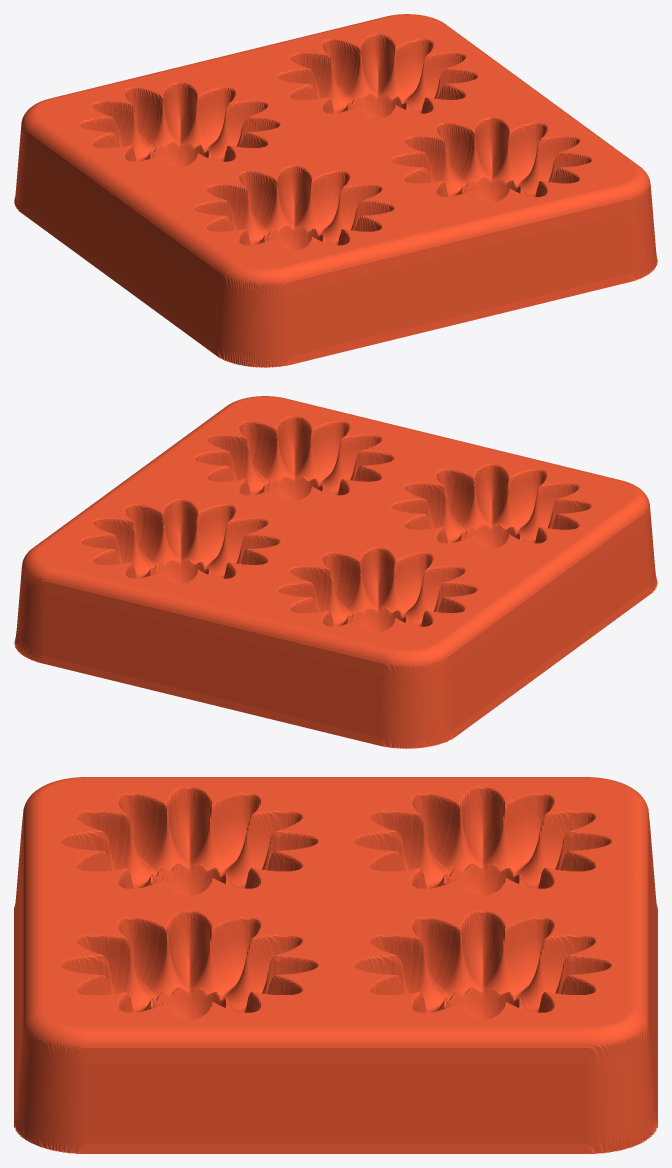
Rendered from mold.glb.
The picture shows the model from 3 angles, top to bottom: view 1: azimuth 30°, elevation 25°; view 2: azimuth 150°, elevation 25°; view 3: azimuth 270°, elevation 25°; orthographic projection. The views are drawn at different scales.
Parts seen in each view (by area): view 1: geometry_0; view 2: geometry_0; view 3: geometry_0.
Boxes of the visible parts, bbox=[...] form: geometry_0: bbox=[14, 14, 657, 367]; geometry_0: bbox=[14, 396, 657, 748]; geometry_0: bbox=[14, 777, 657, 1153].
Size of the model in its own units: 0.0808 by 0.0159 by 0.0808.
